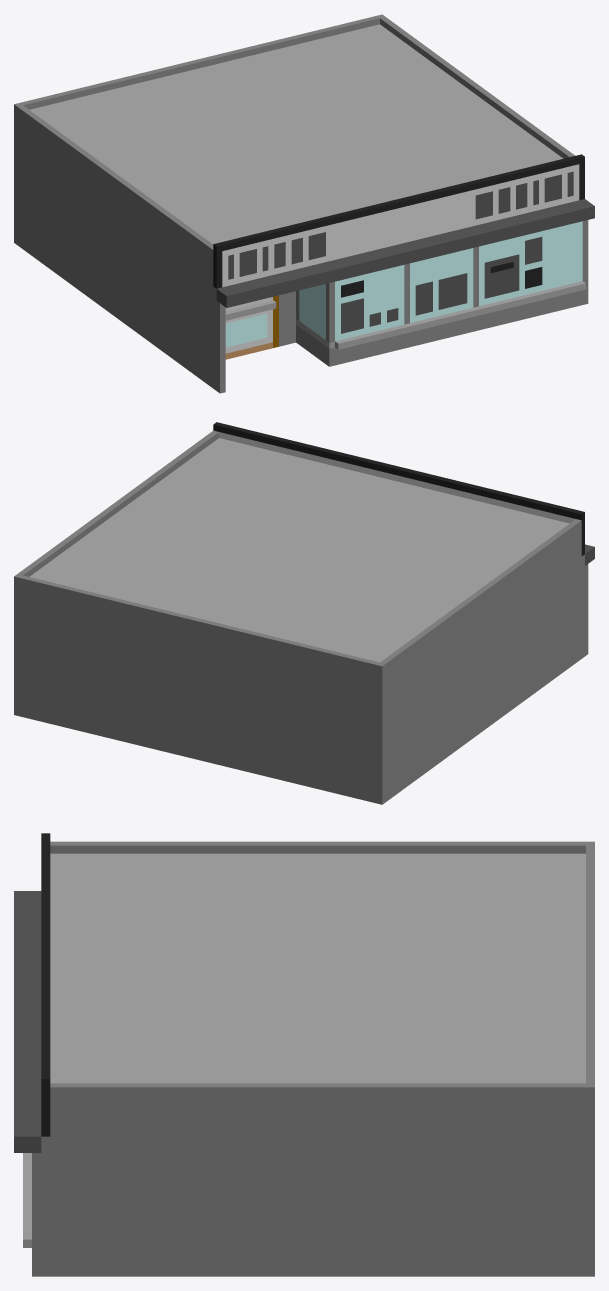
Rendered from obj_store05.obj.
The picture shows the model from 3 angles, top to bottom: view 1: azimuth 30°, elevation 25°; view 2: azimuth 150°, elevation 25°; view 3: azimuth 270°, elevation 25°; orthographic projection. The views are drawn at different scales.
Size of the model in its own units: 6.4 by 2.4 by 6.4.
1 material, 1 textured.
